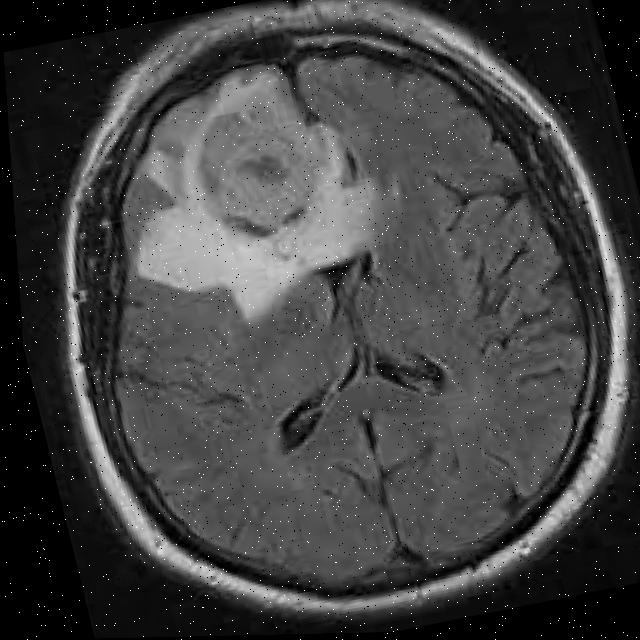Meningioma: (87, 49, 400, 339)
